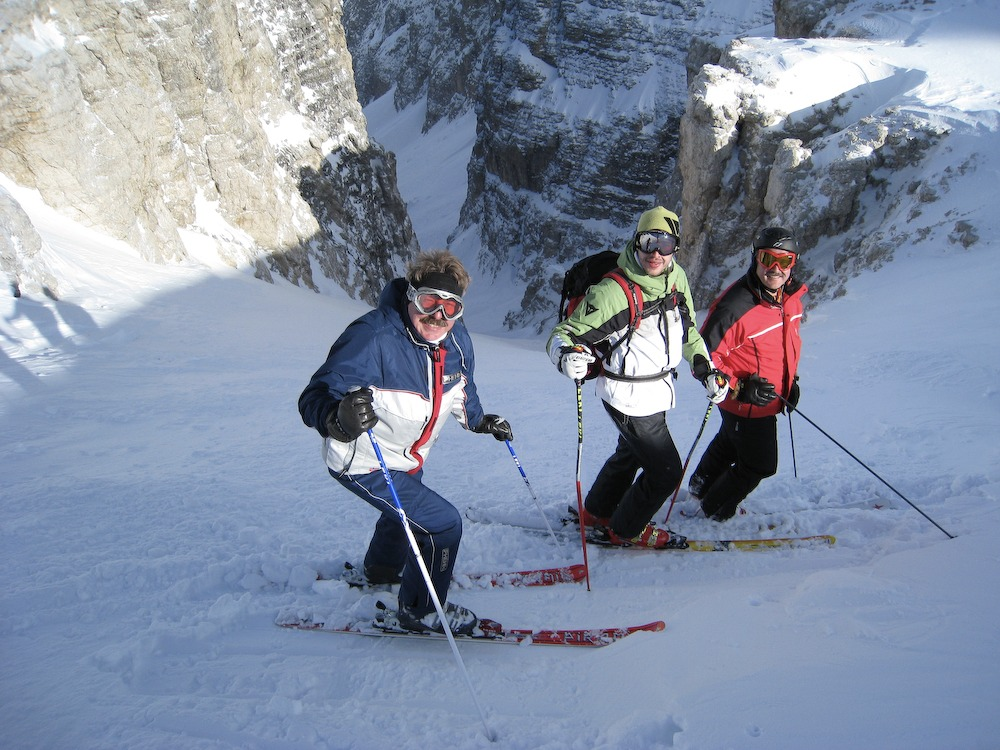helmet: (744, 217, 807, 274)
